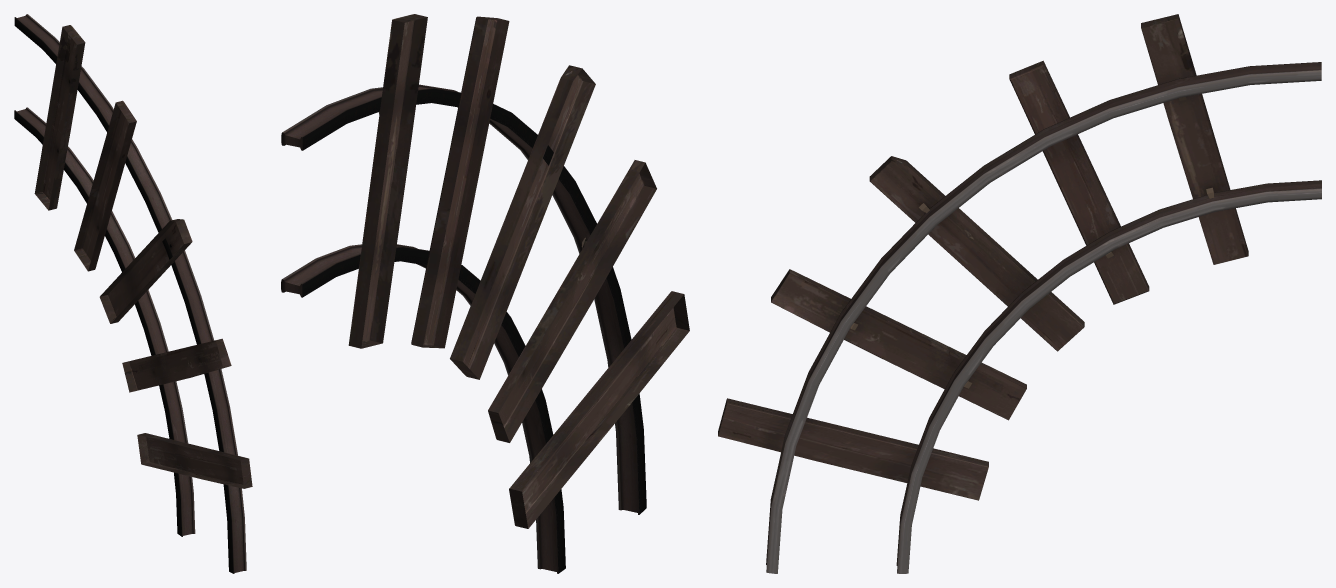
File: props_mining_track_arc_90degree_128.glb
The picture shows the model from 3 angles, left to right: view 1: azimuth 30°, elevation 25°; view 2: azimuth 150°, elevation 25°; view 3: azimuth 270°, elevation 25°; orthographic projection. The views are drawn at different scales.
Parts seen in each view (by area): view 1: models/props_mining/track_arc_90degree_128; view 2: models/props_mining/track_arc_90degree_128; view 3: models/props_mining/track_arc_90degree_128.
Part boxes in pixels (box(x1,y1,x2,y2)): models/props_mining/track_arc_90degree_128: box(14, 14, 252, 573); models/props_mining/track_arc_90degree_128: box(281, 14, 689, 573); models/props_mining/track_arc_90degree_128: box(718, 14, 1321, 573).
Bounding box in the file's own units: 6.71 × 125 × 125.
1 material, 1 textured.
